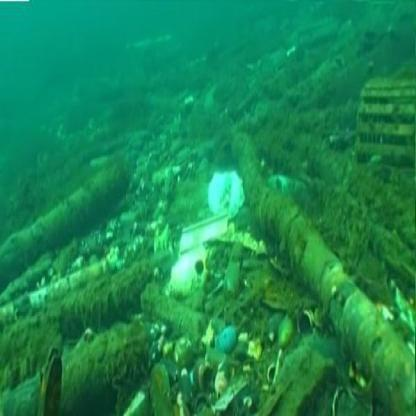misc: (174, 145, 232, 307)
rod: (232, 150, 411, 388), (3, 171, 149, 245)
